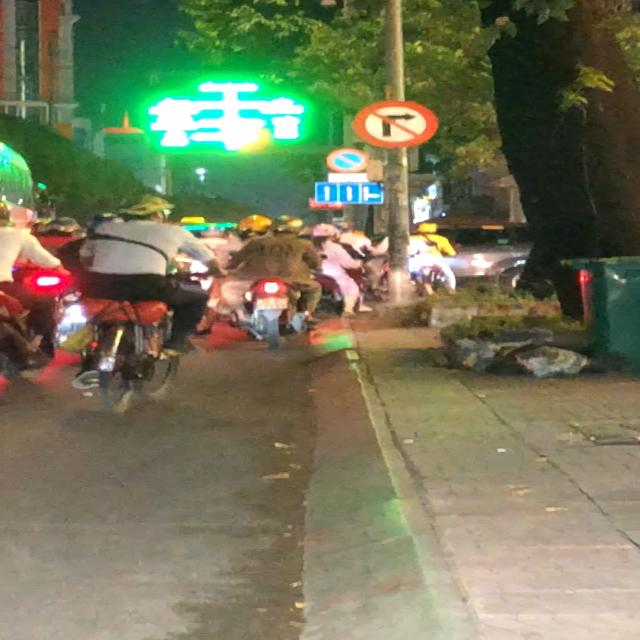Bien bao cam re phai: (350, 98, 445, 149)
